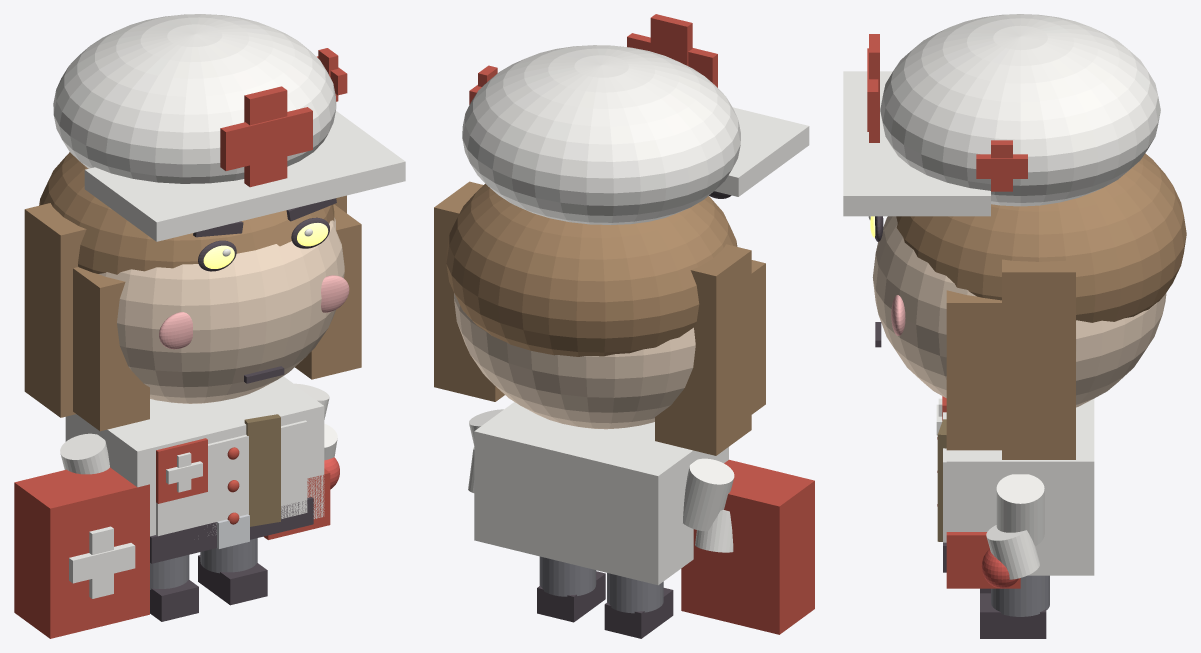
File: paramedic.glb
3 renders of one model, left to right at view 1: azimuth 30°, elevation 25°; view 2: azimuth 150°, elevation 25°; view 3: azimuth 270°, elevation 25°, orthographic. The views are drawn at different scales.
Parts seen in each view (by area): view 1: CapDome, Head, MedKit, CapBrim, Coat, HairCap, SideHair_L, SideHairF_L, CoatFront, SideHairF_R, CapCrossH, ShoulderStrap (+15 smaller); view 2: CapDome, HairCap, Coat, MedKit, Head, SideHair_L, SideHair_R, CapBrim, UpperArm_L, SideHairF_L, Leg_R, Leg_L (+5 smaller); view 3: CapDome, HairCap, SideHair_R, Head, Coat, CapBrim, SideHairF_R, UpperArm_R, WaistPouch, Leg_R, Shoe_R, Forearm_R (+7 smaller).
Boxes of the visible parts, x1,y1,x2,y2 form: CapDome: (53,14,336,183); Head: (99,217,344,403); MedKit: (14,467,149,638); CapBrim: (84,111,405,241); Coat: (65,376,324,536); HairCap: (39,152,334,274); SideHair_L: (24,203,86,417); SideHairF_L: (73,267,149,431); CoatFront: (156,420,307,536); SideHairF_R: (295,204,361,379); CapCrossH: (220,107,312,170); ShoulderStrap: (244,414,280,526); CapDome: (462,45,740,224); HairCap: (446,183,737,356); Coat: (474,402,728,585); MedKit: (681,459,814,634); Head: (454,293,695,429); SideHair_L: (655,244,751,455); SideHair_R: (434,181,504,401); CapBrim: (714,107,809,196); UpperArm_L: (683,458,734,531); SideHairF_L: (751,260,765,414); Leg_R: (539,556,596,596); Leg_L: (607,573,663,613); CapDome: (880,14,1160,206); HairCap: (896,153,1186,322); SideHair_R: (1002,259,1075,459); Head: (872,216,1166,407); Coat: (946,399,1094,575); CapBrim: (843,71,990,216); SideHairF_R: (946,290,1001,450); UpperArm_R: (996,474,1044,546); WaistPouch: (946,532,1020,588); Leg_R: (991,575,1049,616); Shoe_R: (980,593,1046,638); Forearm_R: (986,525,1039,579).
Size of the model in its own units: 1.21 by 2 by 1.08.
